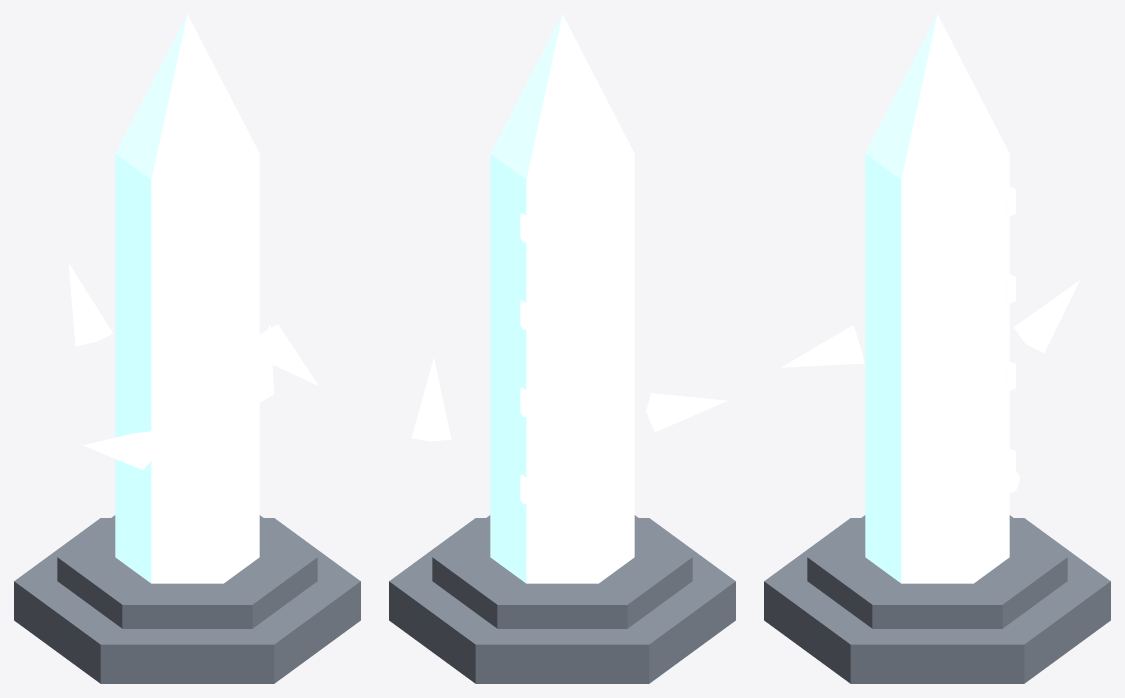
Rendered from glacial_obelisk.glb.
3 views of the same model, side by side, from view 1: azimuth 30°, elevation 25°; view 2: azimuth 150°, elevation 25°; view 3: azimuth 270°, elevation 25° (orthographic).
Visible parts, largest first — view 1: IceMonolith, PermafrostDais, DaisUpperTier, CrystalPyramidCap, FloatingShard_1, FloatingShard_3, FloatingShard_2, FloatingShard_0; view 2: IceMonolith, PermafrostDais, DaisUpperTier, CrystalPyramidCap, FloatingShard_0, FloatingShard_2, FloatingShard_1; view 3: IceMonolith, PermafrostDais, DaisUpperTier, CrystalPyramidCap, FloatingShard_0, FloatingShard_1, FloatingShard_3.
Boxes of the visible parts, x1,y1,x2,y2 form: IceMonolith: (115, 154, 259, 583); PermafrostDais: (14, 518, 360, 683); DaisUpperTier: (57, 515, 317, 628); CrystalPyramidCap: (115, 14, 259, 179); FloatingShard_1: (68, 263, 113, 346); FloatingShard_3: (253, 324, 318, 385); FloatingShard_2: (83, 431, 156, 469); FloatingShard_0: (259, 325, 273, 402); IceMonolith: (490, 154, 634, 583); PermafrostDais: (389, 518, 735, 683); DaisUpperTier: (432, 515, 692, 628); CrystalPyramidCap: (490, 14, 634, 179); FloatingShard_0: (411, 358, 451, 441); FloatingShard_2: (646, 393, 727, 432); FloatingShard_1: (538, 367, 583, 424); IceMonolith: (865, 154, 1009, 583); PermafrostDais: (764, 518, 1110, 683); DaisUpperTier: (807, 515, 1067, 628); CrystalPyramidCap: (865, 14, 1009, 179); FloatingShard_0: (981, 419, 1020, 497); FloatingShard_1: (1013, 280, 1079, 352); FloatingShard_3: (781, 325, 864, 367).
Size of the model in its own units: 3.18 by 6.95 by 3.6.
